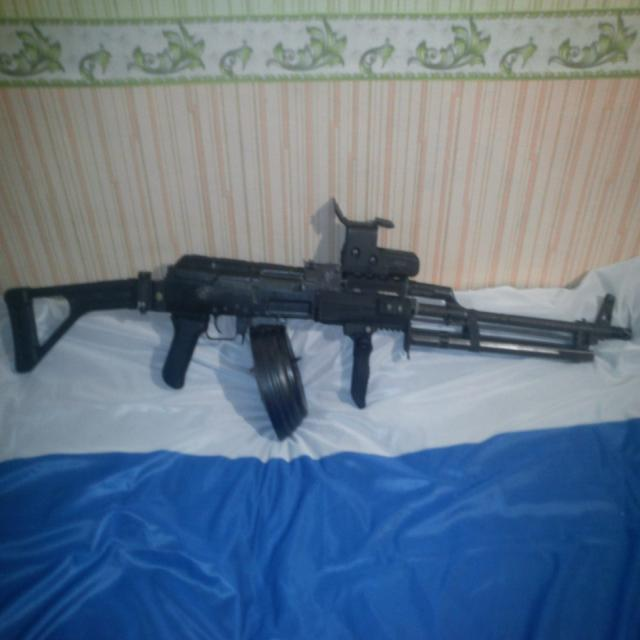firearm: (1, 196, 634, 442)
